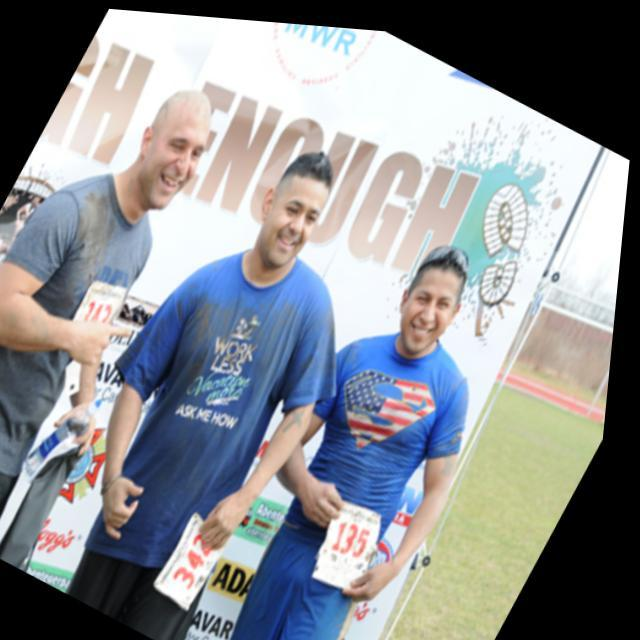Nonhelmet: (126, 77, 222, 218), (376, 233, 478, 360), (249, 140, 335, 267)
